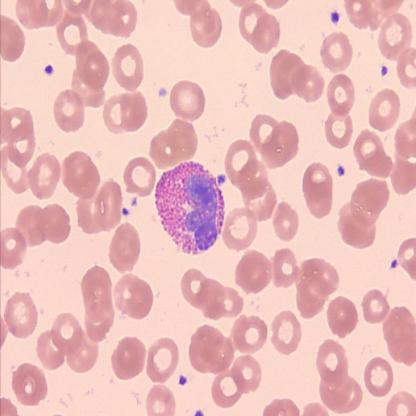Eosinophil: (154, 158, 228, 256)
